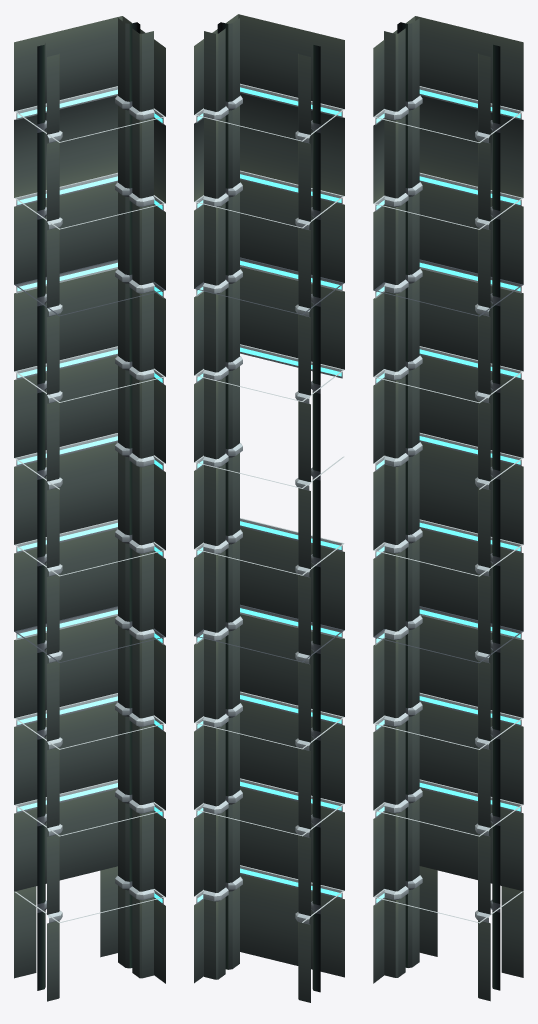
Rendered from tower-shaft.glb.
3 views of the same model, side by side, from view 1: azimuth 30°, elevation 25°; view 2: azimuth 150°, elevation 25°; view 3: azimuth 330°, elevation 25° (orthographic).
Visible parts, largest first — view 1: shaft, shaft-edges, shaft_lights; view 2: shaft, shaft-edges, shaft_lights; view 3: shaft, shaft-edges, shaft_lights.
Part boxes in pixels (x1,y1,x2,y2): shaft: [14, 16, 165, 983]; shaft-edges: [37, 18, 154, 1001]; shaft_lights: [17, 89, 162, 902]; shaft: [194, 14, 344, 983]; shaft-edges: [202, 18, 320, 1002]; shaft_lights: [197, 87, 341, 902]; shaft: [373, 16, 523, 983]; shaft-edges: [384, 18, 500, 1001]; shaft_lights: [376, 89, 520, 902].
Size of the model in its own units: 5.39 by 44.87 by 3.76.
2 materials, 1 textured.
